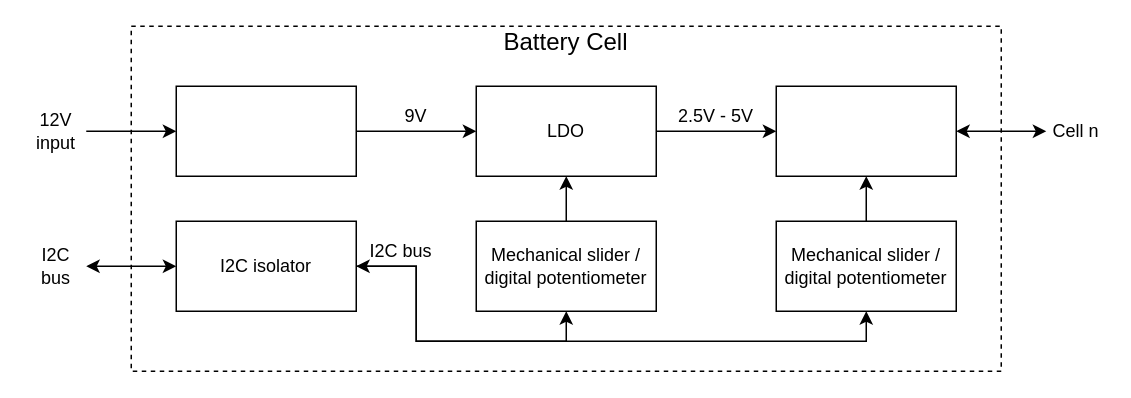
Image size: 1131x398. Some labels were removed from this diagram. Here are the shapes that lost their labels. From the top down, the centre of each, then its label:
At (x=265, y=130): "Isolated DC-DC converter".
At (x=865, y=130): "Current sink".
